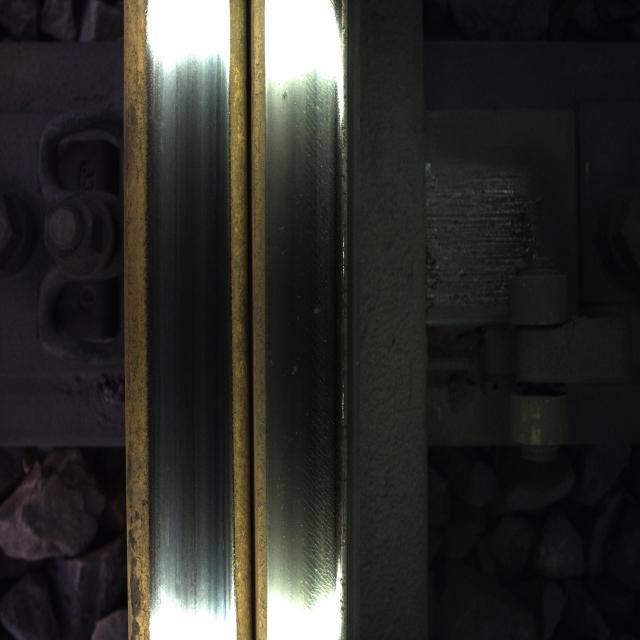break: (146, 62, 234, 580), (274, 71, 342, 566)
